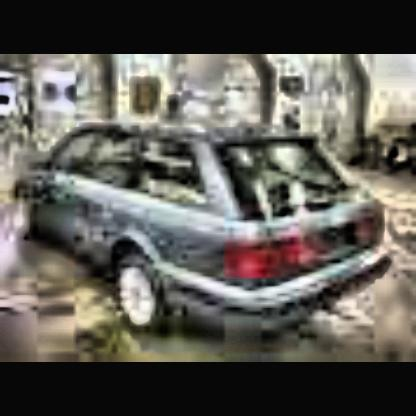Audi 100 Wagon 1994: (10, 124, 388, 339)
